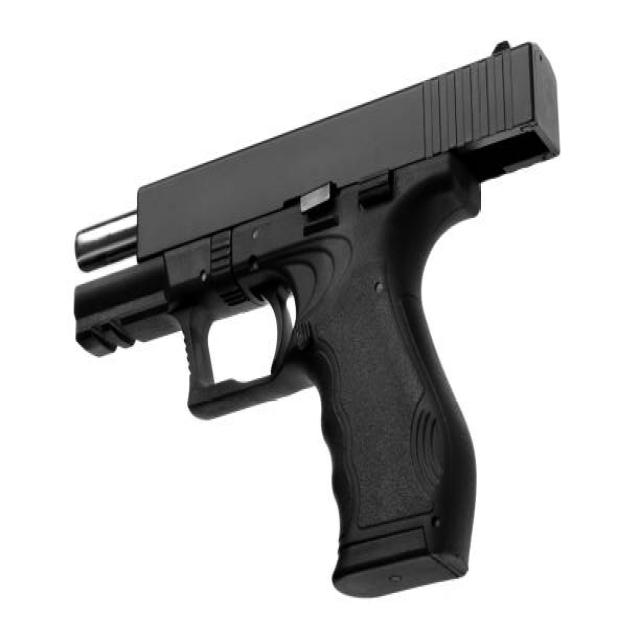pistol: (60, 25, 563, 607)
